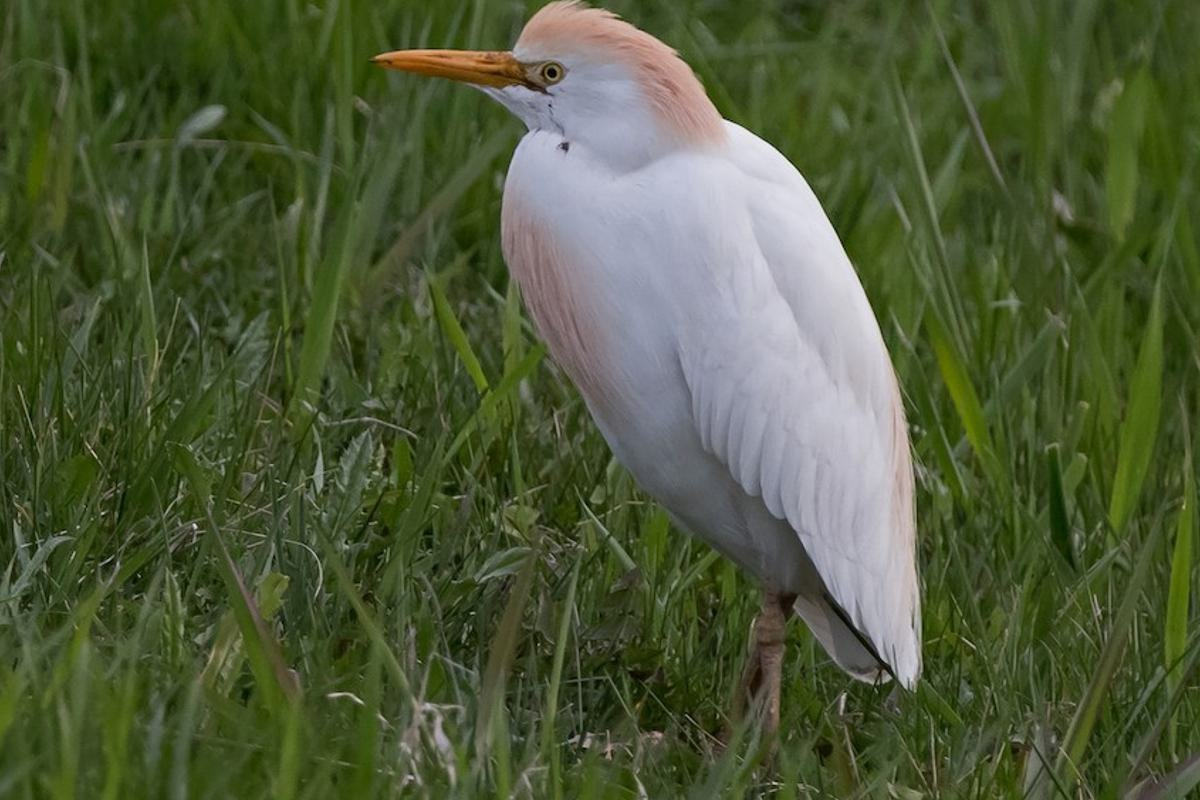egret: (357, 5, 983, 728)
